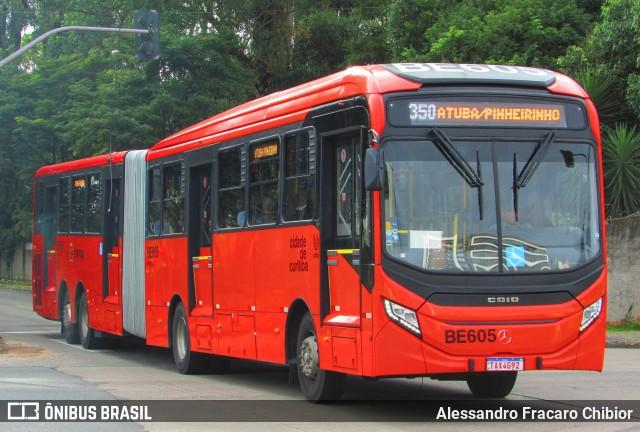ATUBA PINHEIRINHO: (435, 103, 564, 126)
